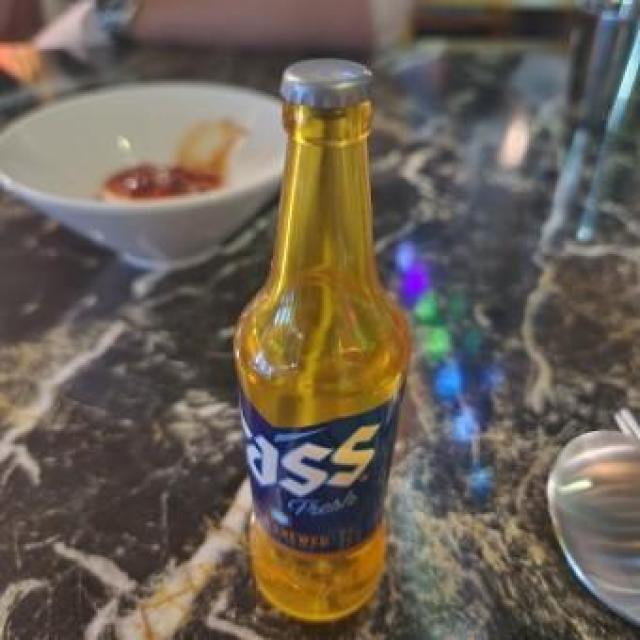beer-bottle: (215, 58, 408, 640)
